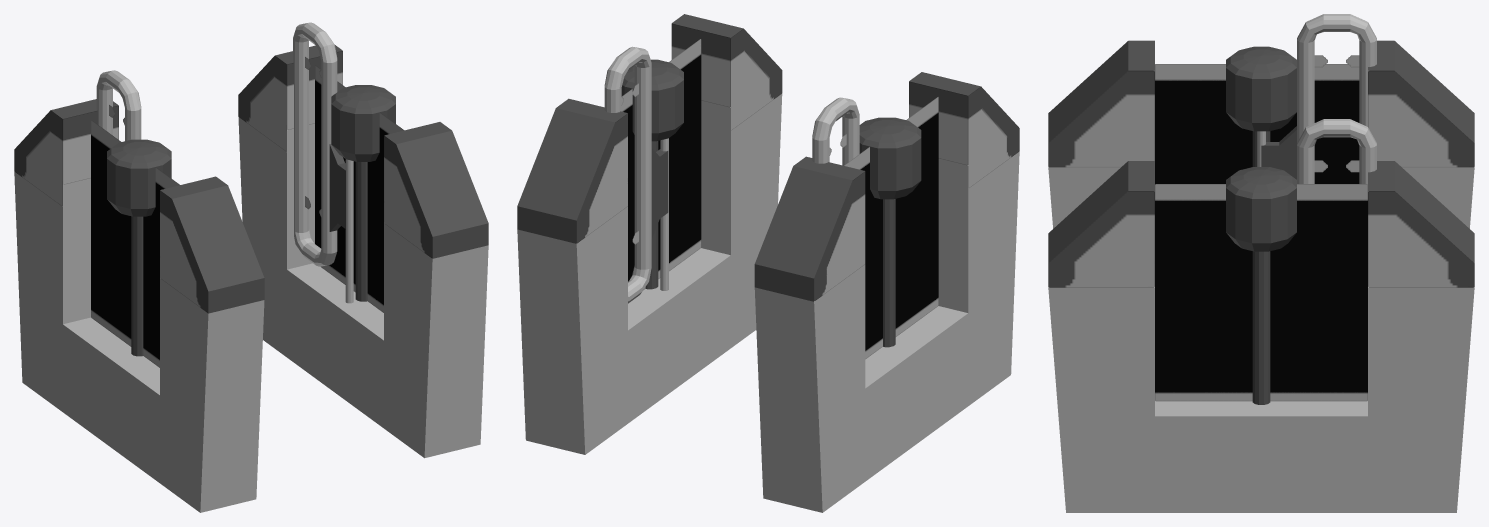
Rendered from nyc_subway_fare_gate_3_twoway_open_entrance.obj.
The picture shows the model from 3 angles, left to right: view 1: azimuth 30°, elevation 25°; view 2: azimuth 150°, elevation 25°; view 3: azimuth 270°, elevation 25°; orthographic projection. The views are drawn at different scales.
Visible parts, largest first — view 1: left, right, doorRight, doorLeft; view 2: left, right, doorRight, doorLeft; view 3: right, left, doorLeft, doorRight.
Boxes of the visible parts, <box> form: left: <box>14,99,264,512</box>; right: <box>238,45,488,458</box>; doorRight: <box>293,22,345,266</box>; doorLeft: <box>96,70,141,140</box>; left: <box>754,72,1019,512</box>; right: <box>517,14,782,454</box>; doorRight: <box>604,46,668,303</box>; doorLeft: <box>812,97,859,165</box>; right: <box>1048,161,1474,512</box>; left: <box>1048,40,1474,228</box>; doorLeft: <box>1261,14,1376,179</box>; doorRight: <box>1297,119,1376,191</box>.
Bounding box in the file's own units: 1.25 × 1.44 × 1.5.
Materials: 1 (1 with a texture image).
